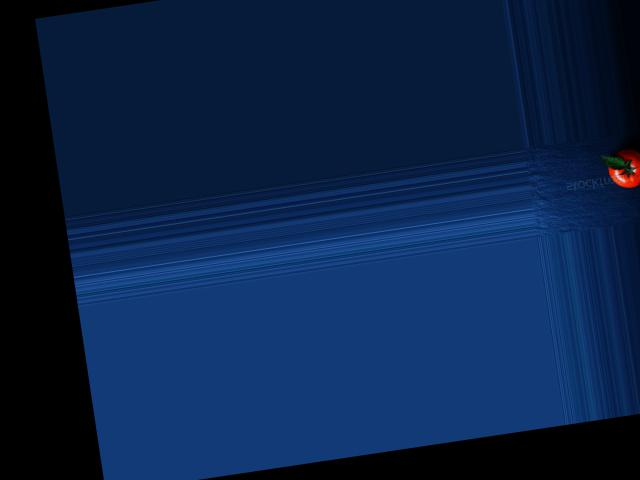tomato: (605, 146, 640, 190)
